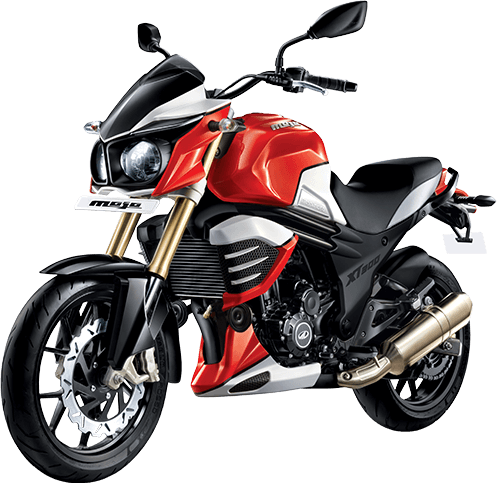motorbike: (1, 1, 494, 483)
